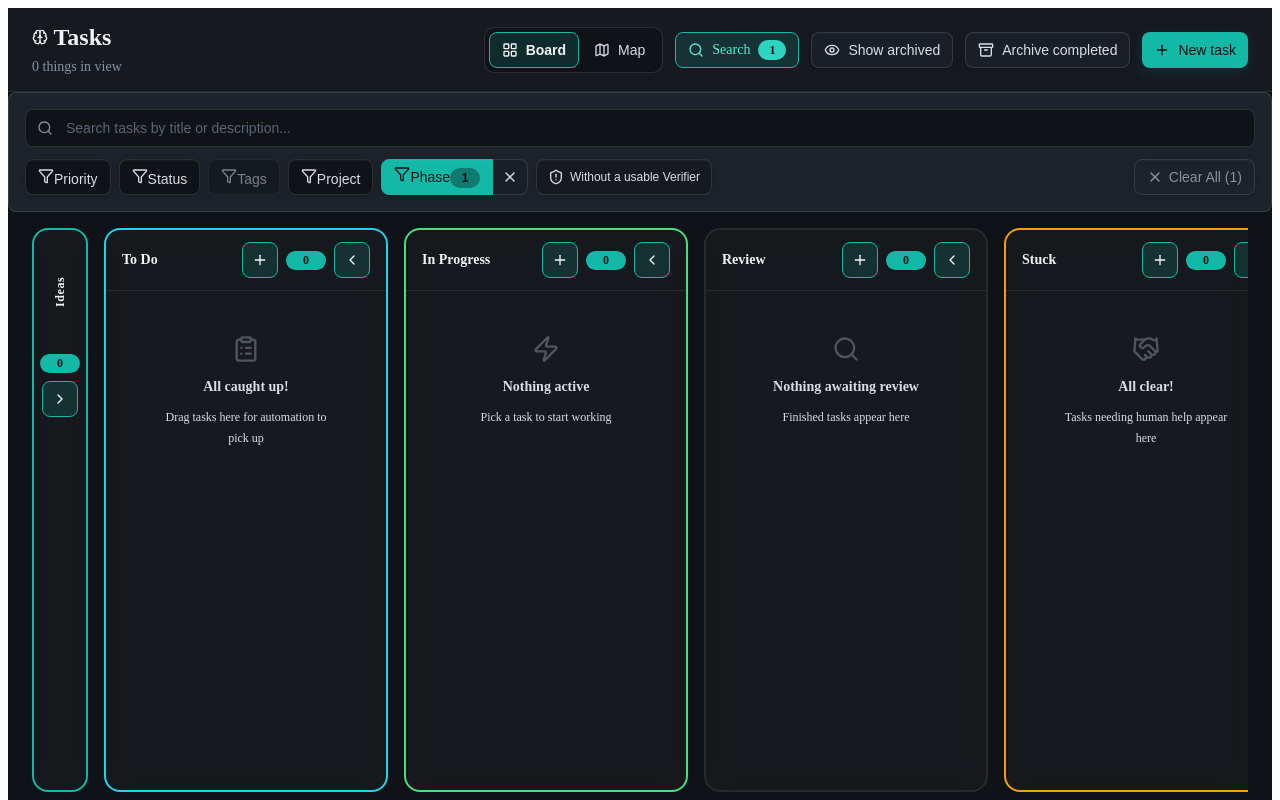
Test: a Project change clears a Phase of another Project › selecting Storefront clears a selected RelayHall Phase before any board request carries both
Click the button "Project": (331, 177) [288,159,373,195]
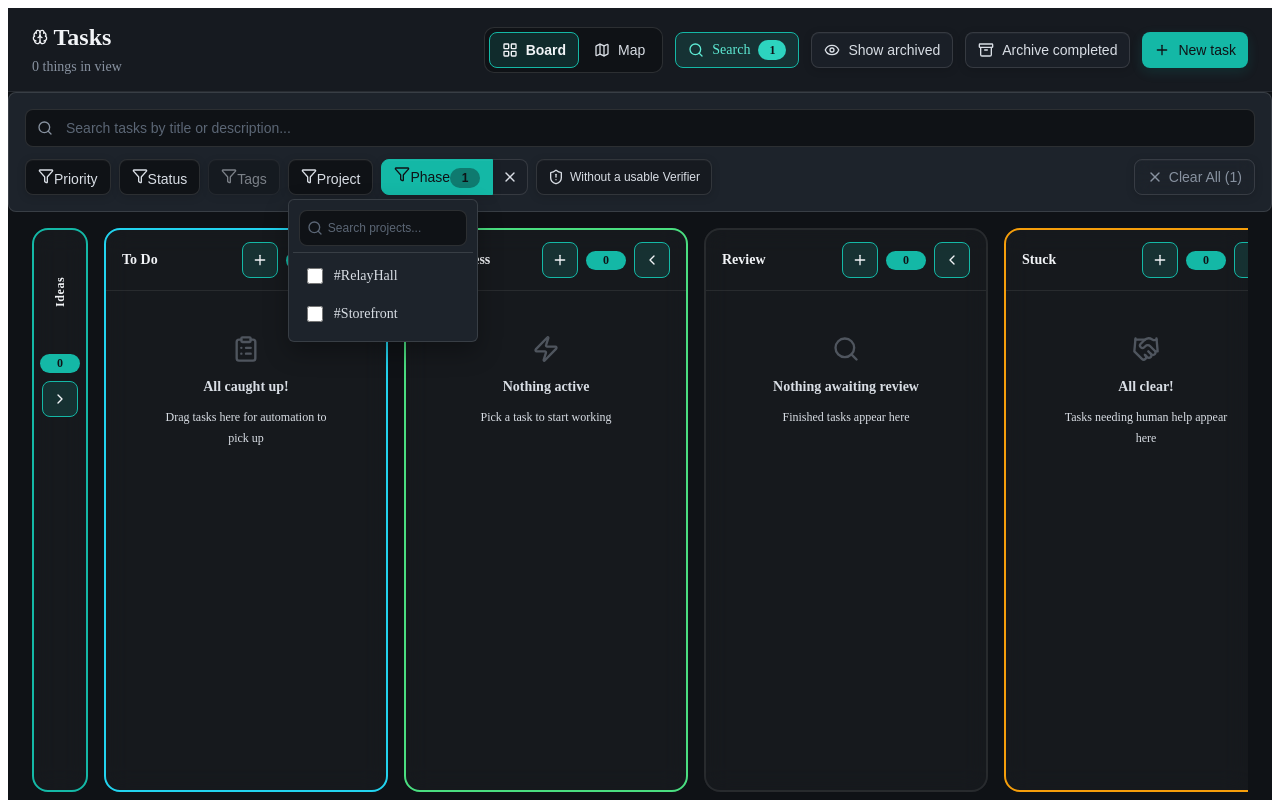
Click the checkbox labelled "#Storefront": (315, 314) [307,306,323,322]
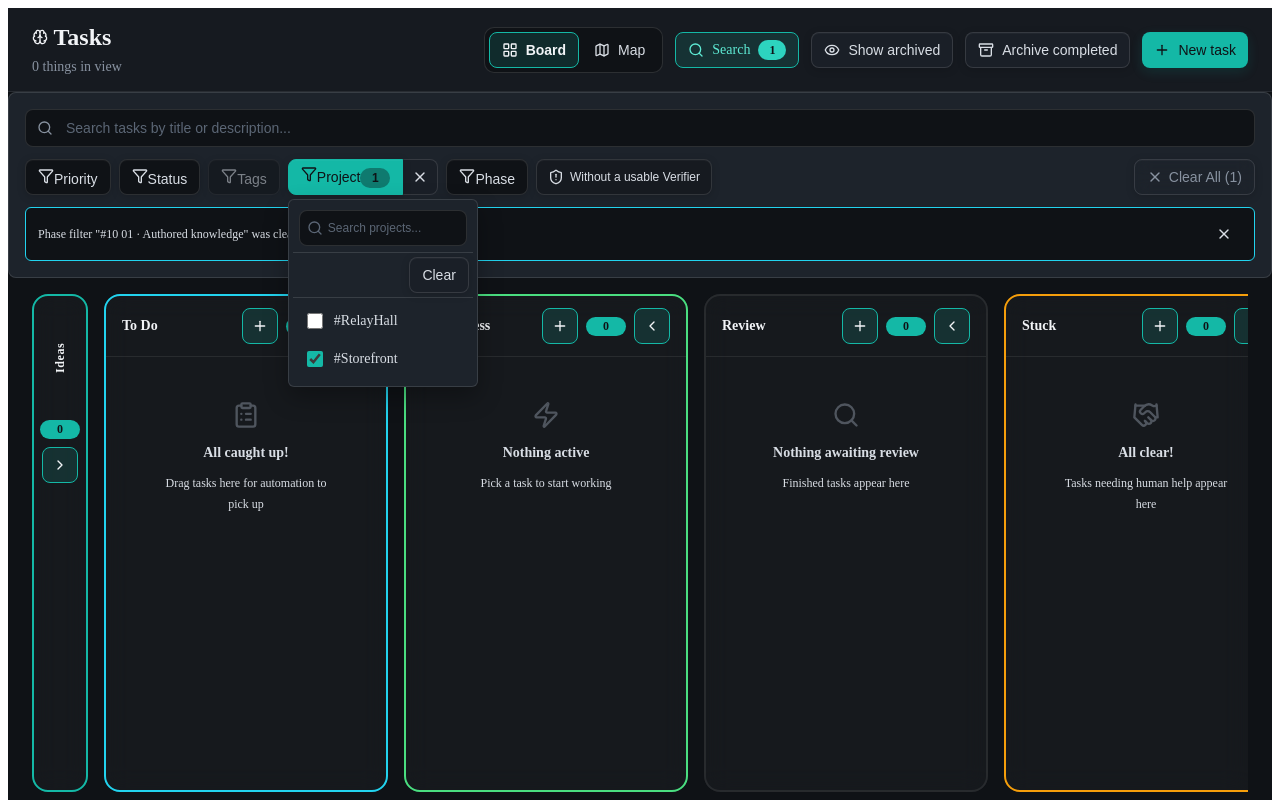
Now the message is shown, box [25,207,1255,261]
Now the message shows "Phase filter \"#10 01 · Authored knowledge\" was cleared: it is not in the selected projects.", box [38,226,466,240]
